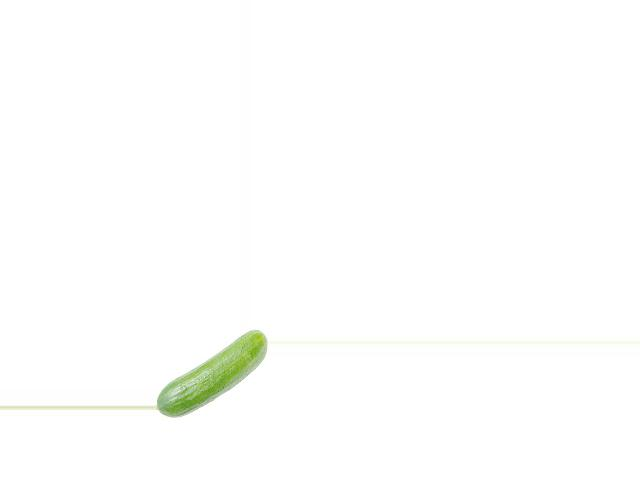cucumber: (155, 330, 268, 418)
